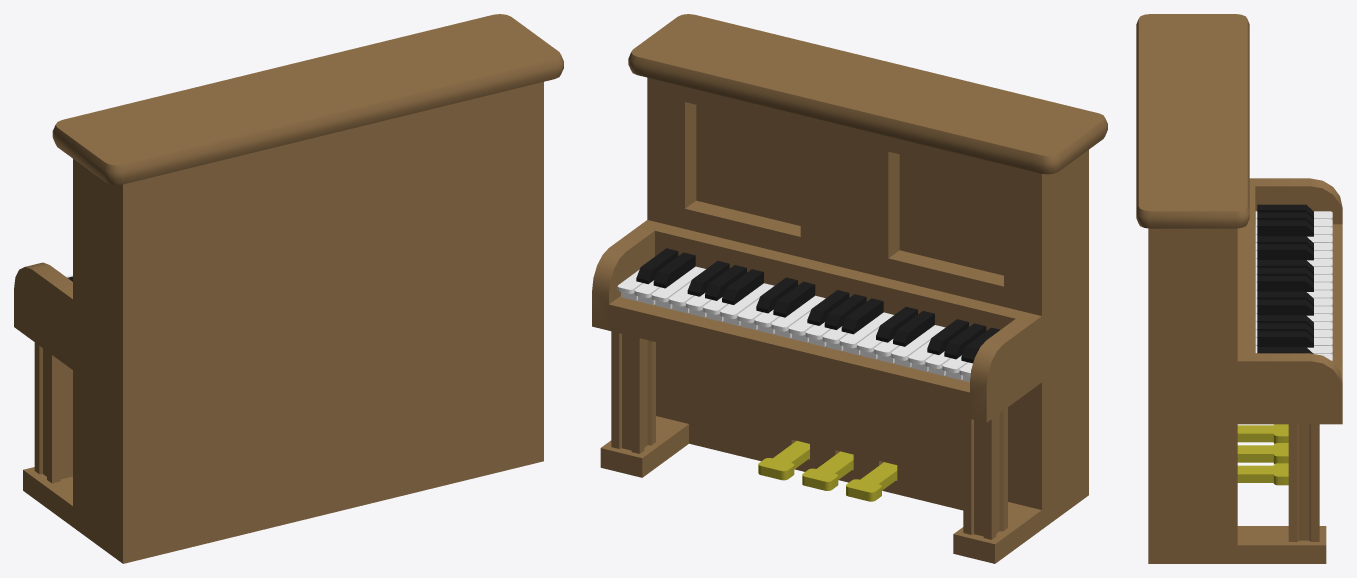
Rendered from UprightPiano.fbx.
3 views of the same model, side by side, from view 1: azimuth 30°, elevation 25°; view 2: azimuth 150°, elevation 25°; view 3: azimuth 270°, elevation 25° (orthographic). The views are drawn at different scales.
Visible parts, largest first — view 1: UprightPiano; view 2: UprightPiano, Keyboard, Pedals; view 3: UprightPiano, Keyboard, Pedals.
Boxes of the visible parts, <box> form: UprightPiano: <box>14,14,563,563</box>; UprightPiano: <box>592,14,1107,563</box>; Keyboard: <box>617,248,1000,382</box>; Pedals: <box>758,441,897,501</box>; UprightPiano: <box>1136,14,1342,563</box>; Keyboard: <box>1255,204,1332,361</box>; Pedals: <box>1237,424,1288,485</box>.
Size of the model in its own units: 4.76 by 4.02 by 2.08.
